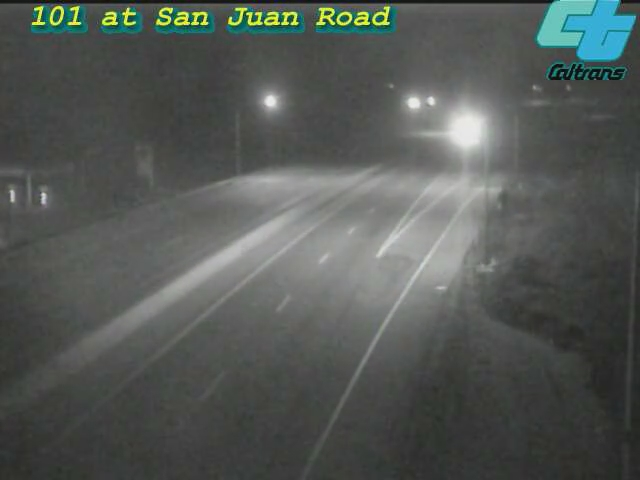vehicle: (439, 106, 489, 156)
